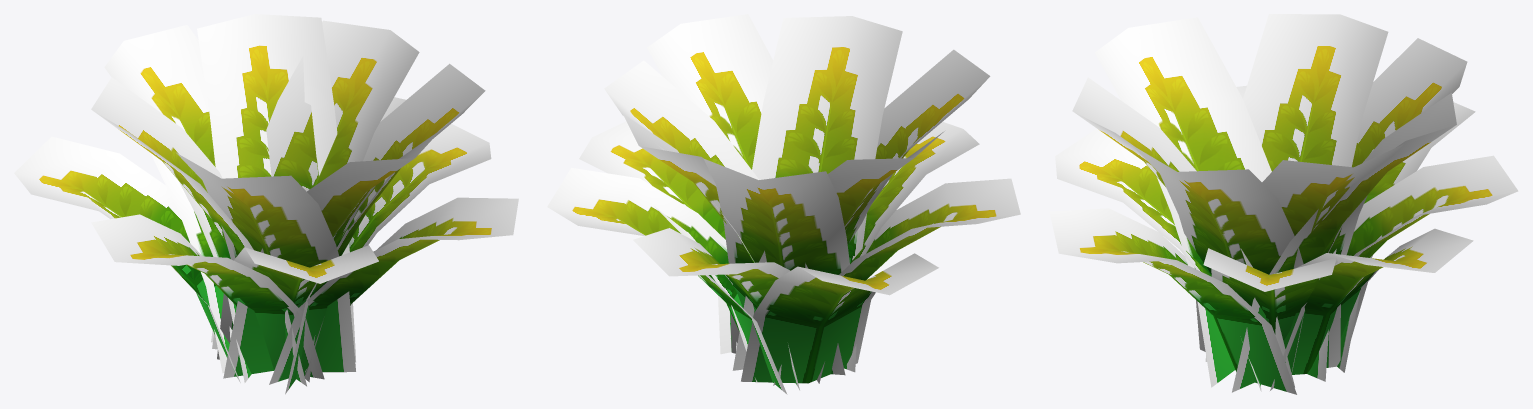
Rendered from Bush_02.FBX.
3 views of the same model, side by side, from view 1: azimuth 30°, elevation 25°; view 2: azimuth 150°, elevation 25°; view 3: azimuth 270°, elevation 25° (orthographic). The views are drawn at different scales.
Visible parts, largest first — view 1: Bush_02; view 2: Bush_02; view 3: Bush_02.
Boxes of the visible parts, bbox=[...] form: Bush_02: bbox=[14, 14, 518, 394]; Bush_02: bbox=[547, 14, 1020, 394]; Bush_02: bbox=[1049, 14, 1518, 394].
Size of the model in its own units: 0.7422 by 0.4745 by 0.7285.
